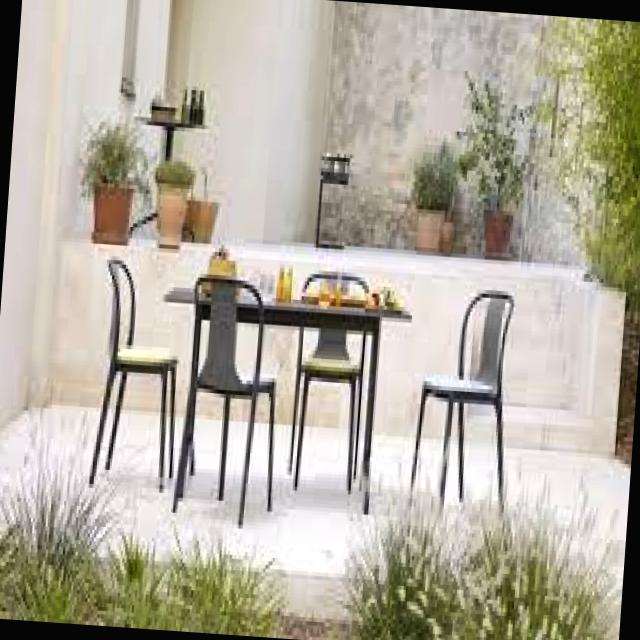obstacle: (406, 274, 530, 524), (67, 244, 190, 493)
